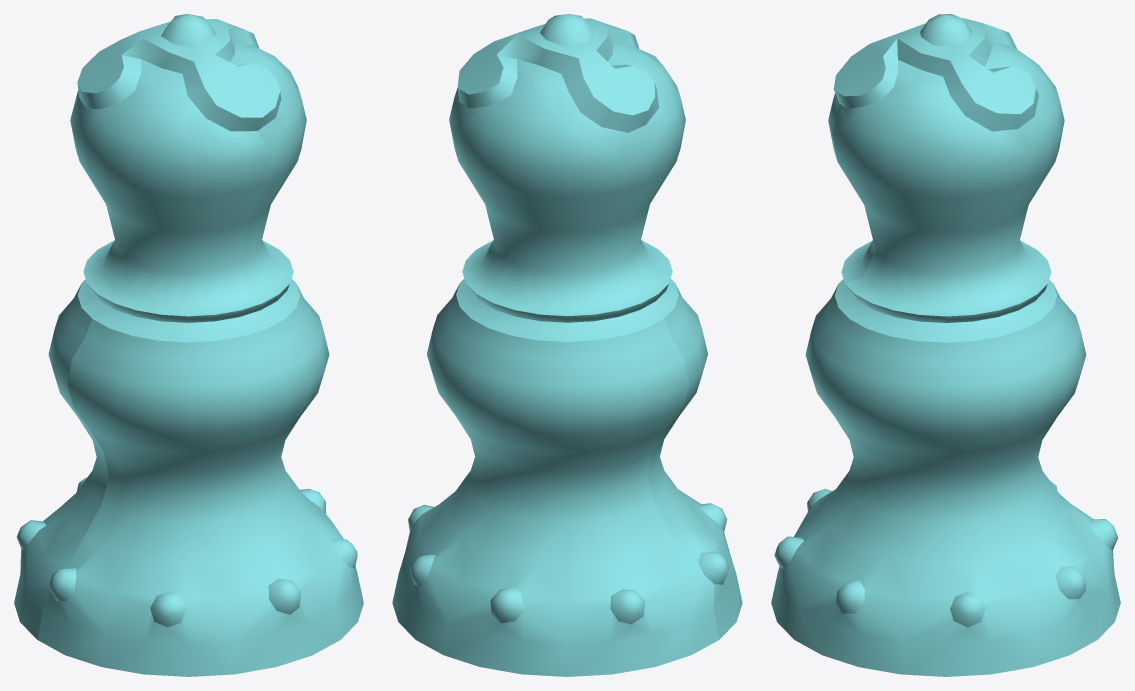
File: SM_Octopus_Planter_2.fbx
The picture shows the model from 3 angles, left to right: view 1: azimuth 30°, elevation 25°; view 2: azimuth 150°, elevation 25°; view 3: azimuth 270°, elevation 25°; orthographic projection.
Parts seen in each view (by area): view 1: SM_Octopus_Planter_2; view 2: SM_Octopus_Planter_2; view 3: SM_Octopus_Planter_2.
Part boxes in pixels (x1,y1,x2,y2): SM_Octopus_Planter_2: (14, 14, 363, 676); SM_Octopus_Planter_2: (392, 14, 742, 676); SM_Octopus_Planter_2: (771, 14, 1120, 676).
Size of the model in its own units: 58.01 by 108 by 58.01.
